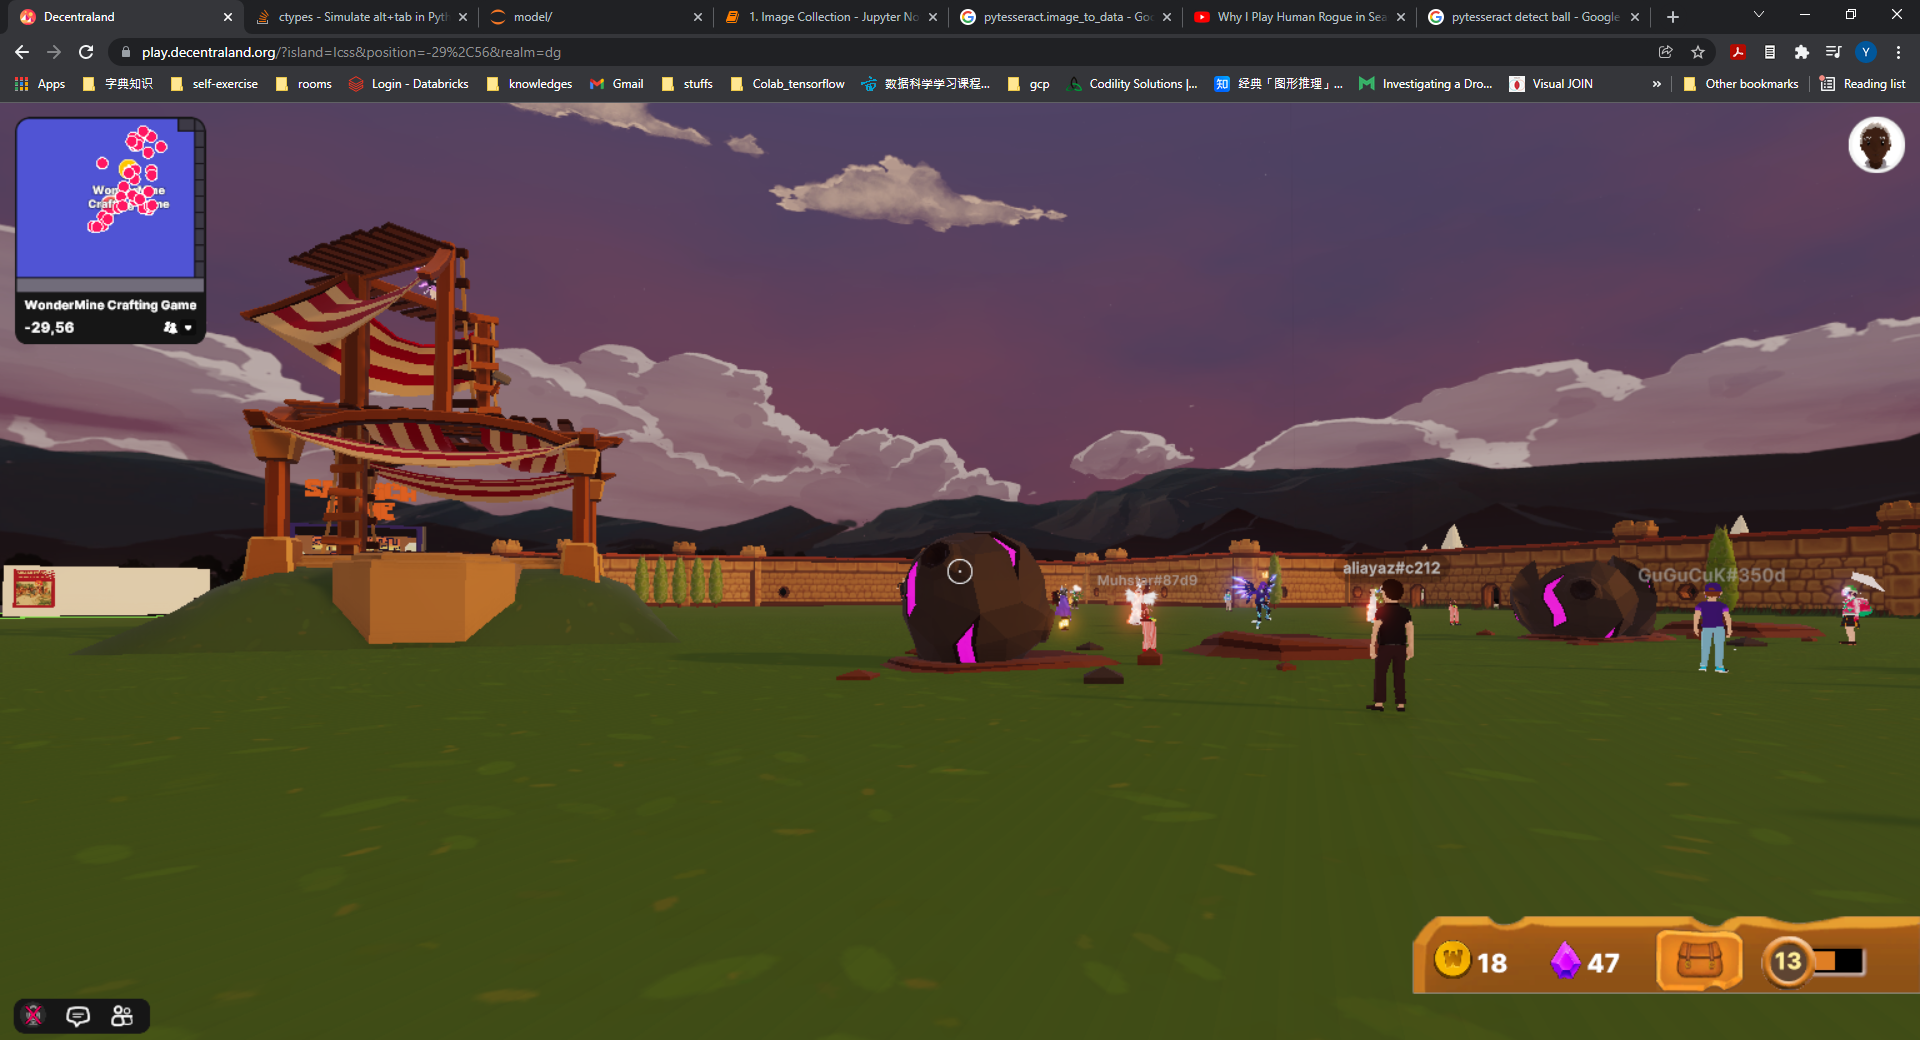black_ball: (861, 500, 1083, 694)
